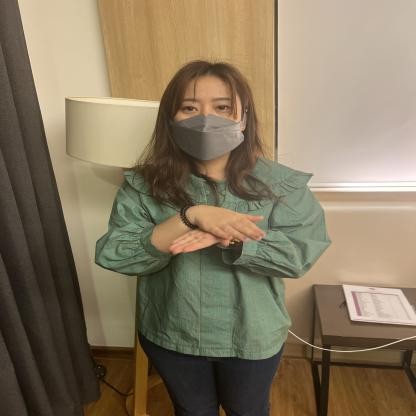Love: (105, 176, 360, 298)
